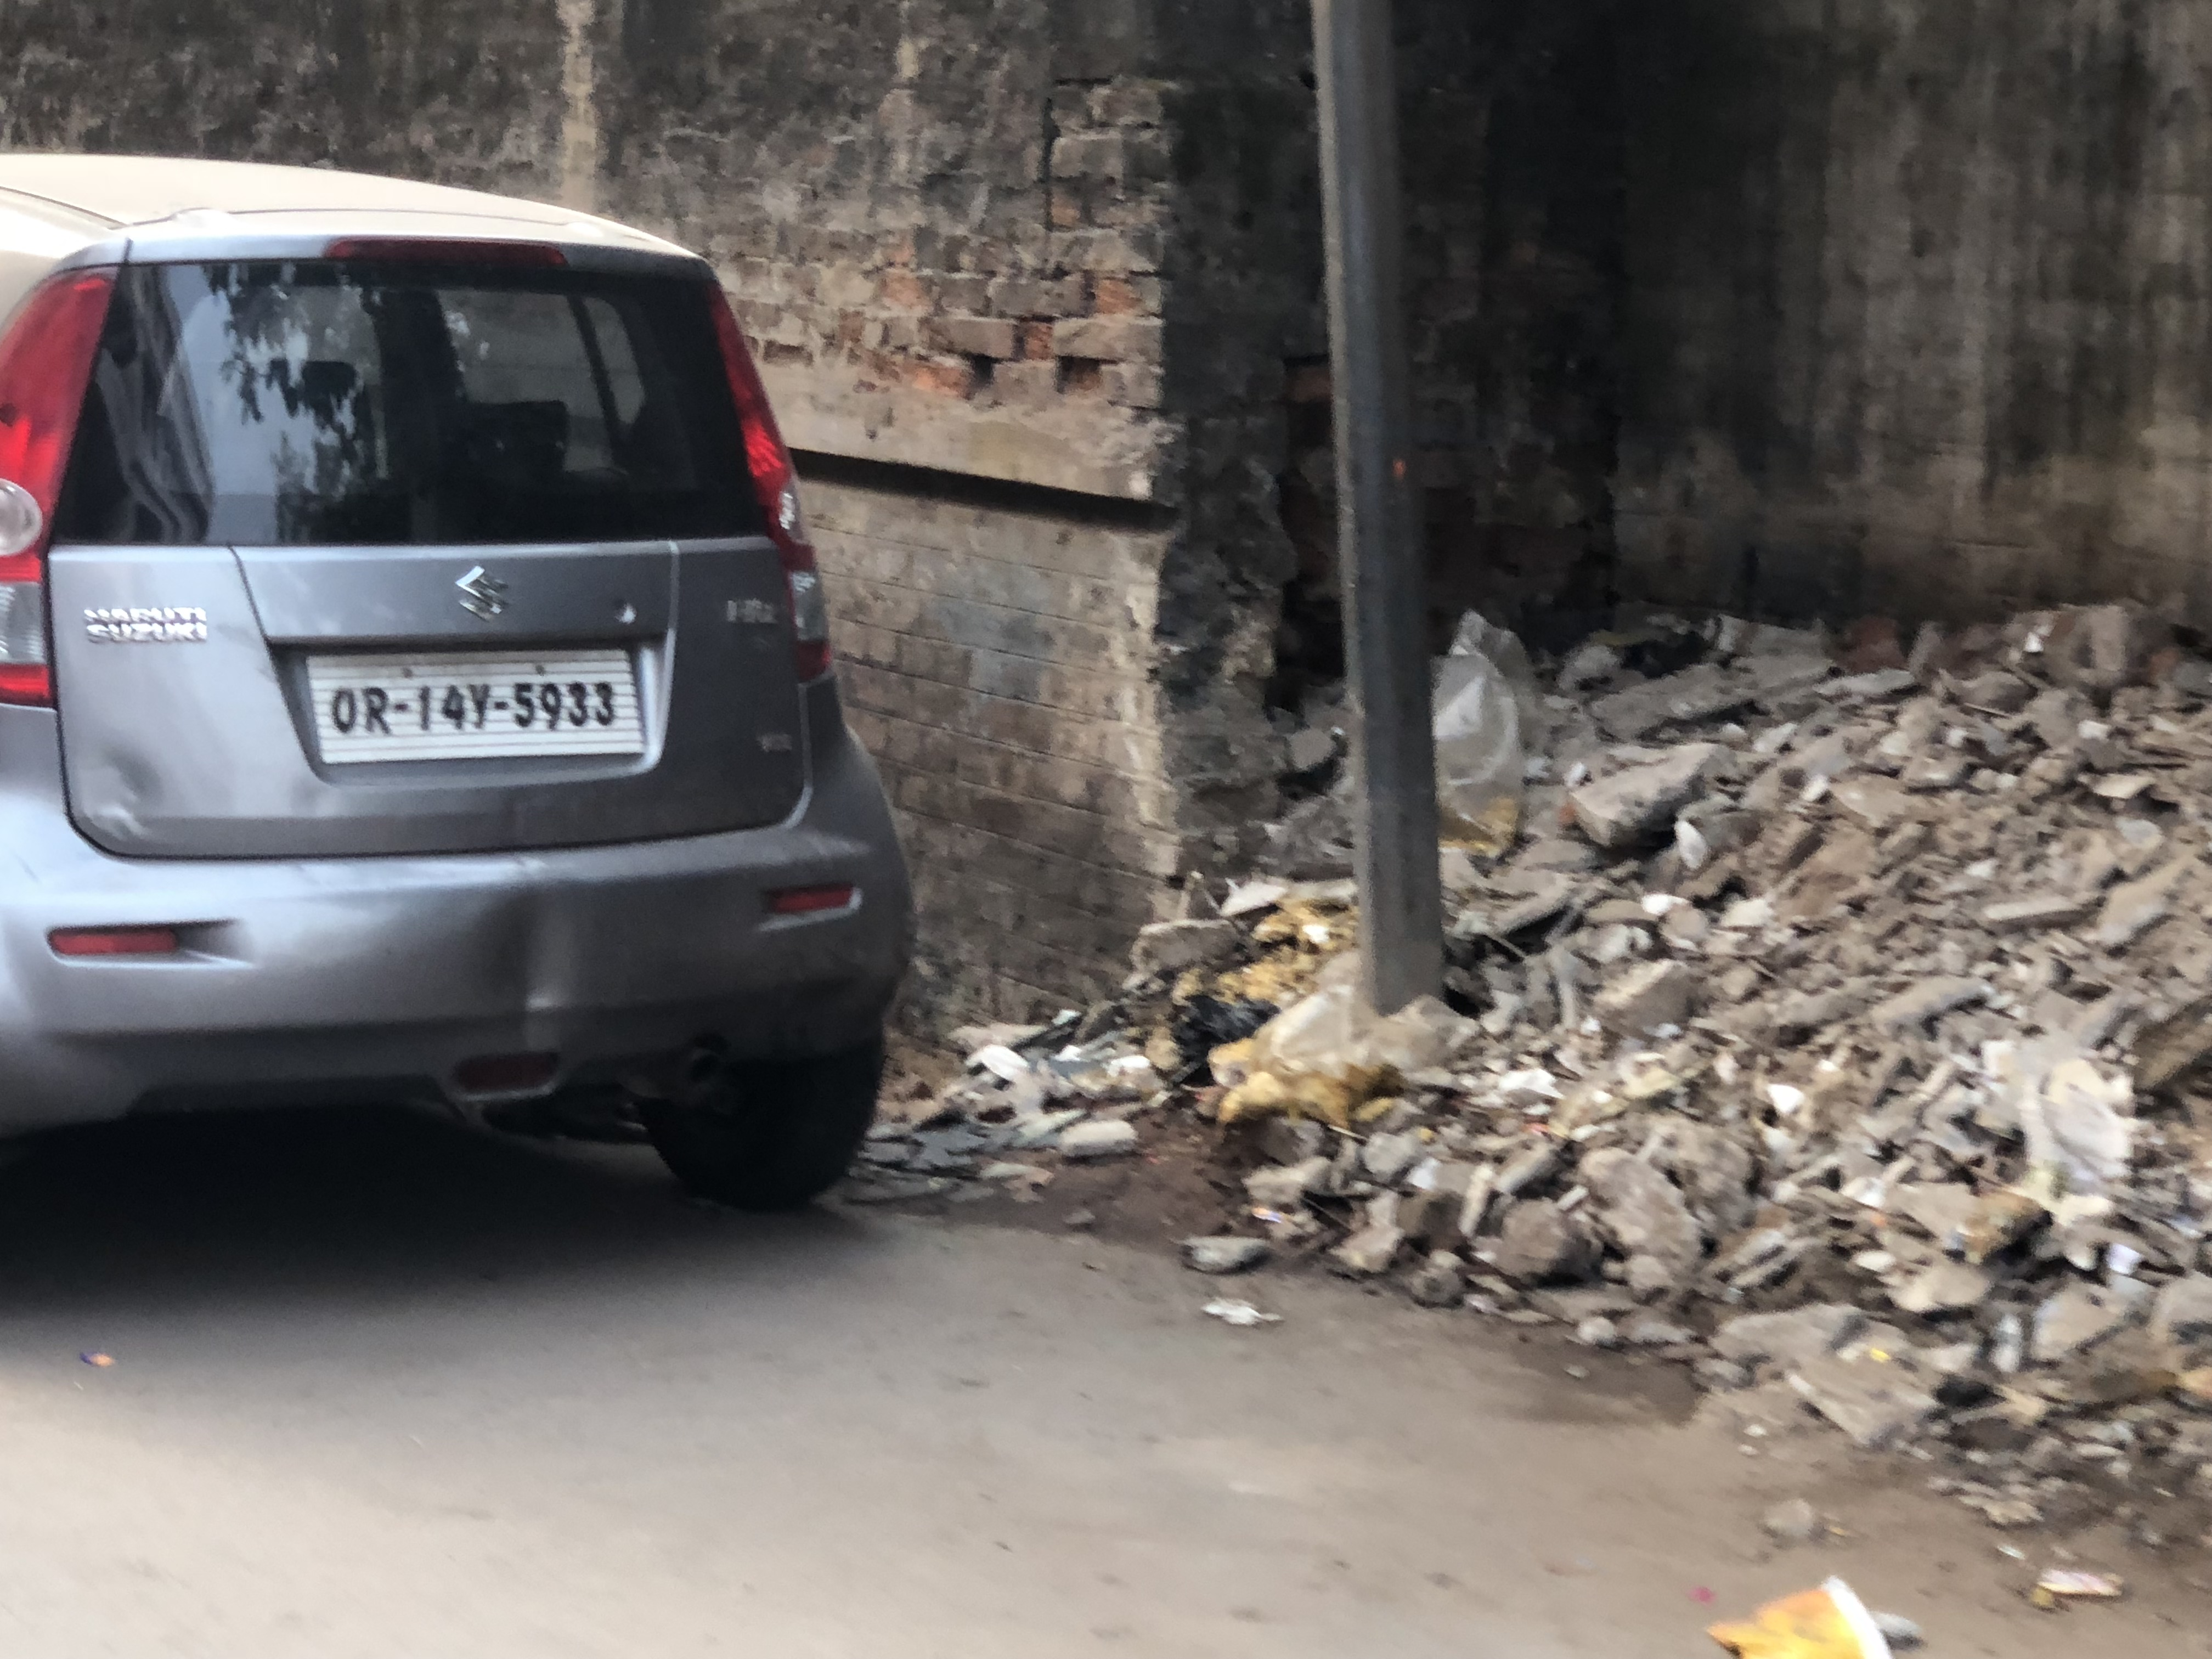licenseplate: (299, 642, 656, 783)
